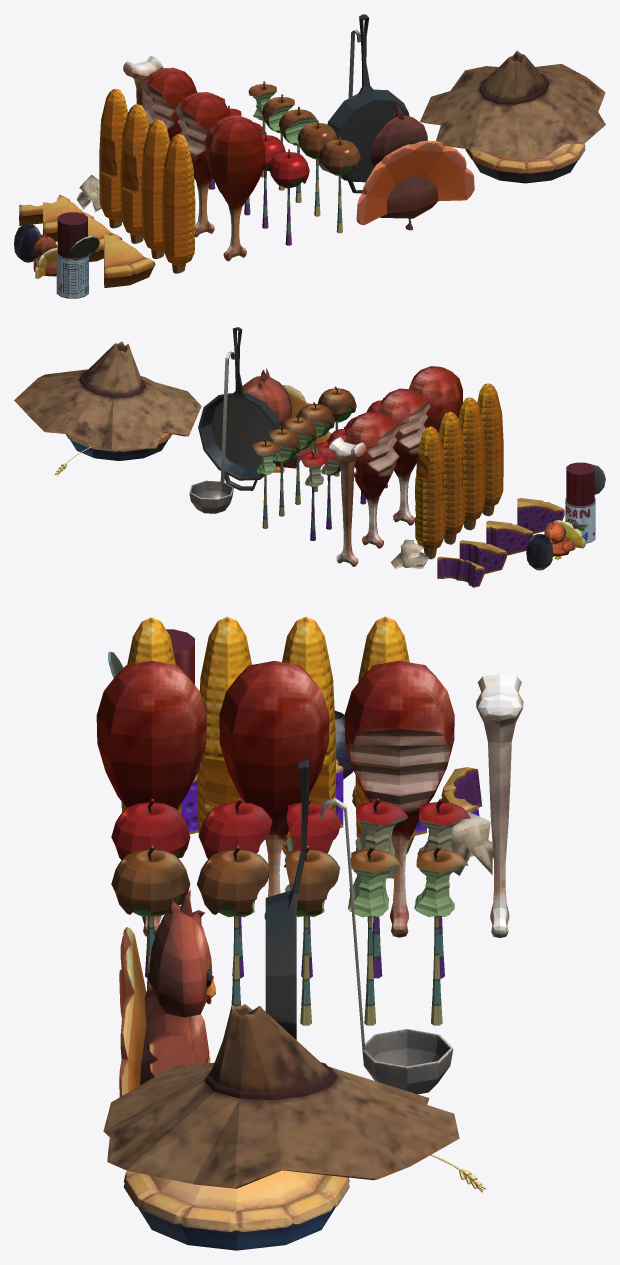
Rendered from GorillaTagFall2022Cosmetics.fbx.
3 renders of one model, top to bottom at view 1: azimuth 30°, elevation 25°; view 2: azimuth 150°, elevation 25°; view 3: azimuth 270°, elevation 25°, orthographic. The views are drawn at different scales.
Parts seen in each view (by area): view 1: ScarecrowHat, BalloonTurkeyFull, TurkeyLeg, FryingPan, CornOnCob1, TurkeyLegBiteOne, CornOnCob_Bite31, CornOnCob_Bite11, Cranberry, CornOnCob_Bite21, Pie, TurkeyLegBiteTwo (+16 smaller); view 2: ScarecrowHat, FryingPan, TurkeyLegBiteTwo, CornOnCob_Bite31, TurkeyLegBiteOne, CornOnCob_Bite11, CornOnCob_Bite21, CornOnCob1, Cranberry, TurkeyLeg, BalloonTurkeyFull, TurkeyLegBone (+16 smaller); view 3: ScarecrowHat, TurkeyLegBiteTwo, TurkeyLegBiteOne, BalloonTurkeyFull, TurkeyLeg, Pie, TurkeyLegBone, CornOnCob_Bite11, Ladel, FryingPan, CandyApple_Bite11_1, CandyApple (+14 smaller).
Boxes of the visible parts, x1,y1,x2,y2 form: ScarecrowHat: (420, 50, 605, 158); BalloonTurkeyFull: (356, 104, 474, 230); TurkeyLeg: (205, 116, 265, 261); FryingPan: (327, 14, 409, 193); CornOnCob1: (162, 134, 195, 273); TurkeyLegBiteOne: (174, 92, 230, 237); CornOnCob_Bite31: (99, 88, 127, 228); CornOnCob_Bite11: (141, 119, 169, 258); Cranberry: (56, 212, 99, 298); CornOnCob_Bite21: (120, 104, 149, 243); Pie: (465, 143, 585, 183); TurkeyLegBiteTwo: (140, 67, 197, 141); ScarecrowHat: (14, 341, 201, 449); FryingPan: (198, 327, 280, 490); TurkeyLegBiteTwo: (345, 411, 399, 548); CornOnCob_Bite31: (415, 426, 445, 559); TurkeyLegBiteOne: (378, 388, 430, 525); CornOnCob_Bite11: (458, 397, 485, 530); CornOnCob_Bite21: (438, 411, 465, 544); CornOnCob1: (477, 383, 503, 516); Cranberry: (565, 462, 605, 543); TurkeyLeg: (409, 366, 462, 432); BalloonTurkeyFull: (242, 368, 331, 472); TurkeyLegBone: (328, 437, 366, 566); ScarecrowHat: (103, 1004, 459, 1188); TurkeyLegBiteTwo: (344, 660, 454, 937); TurkeyLegBiteOne: (219, 660, 329, 919); BalloonTurkeyFull: (119, 890, 215, 1096); TurkeyLeg: (96, 660, 206, 936); Pie: (123, 1170, 349, 1250); TurkeyLegBone: (476, 674, 523, 937); CornOnCob_Bite11: (197, 616, 251, 845); Ladel: (320, 798, 453, 1094); FryingPan: (265, 759, 308, 1039); CandyApple_Bite11_1: (197, 845, 270, 1007); CandyApple: (111, 845, 190, 991).
Bounding box in the file's own units: 262 × 78.81 × 89.85.
